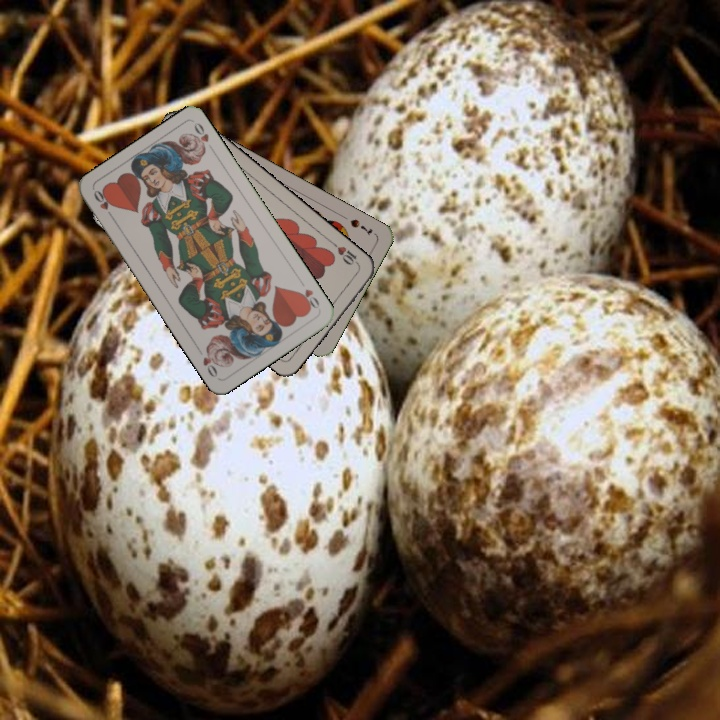H10: (329, 238, 363, 269)
HO: (89, 186, 117, 222), (294, 285, 322, 312)
S7: (346, 215, 375, 238)
